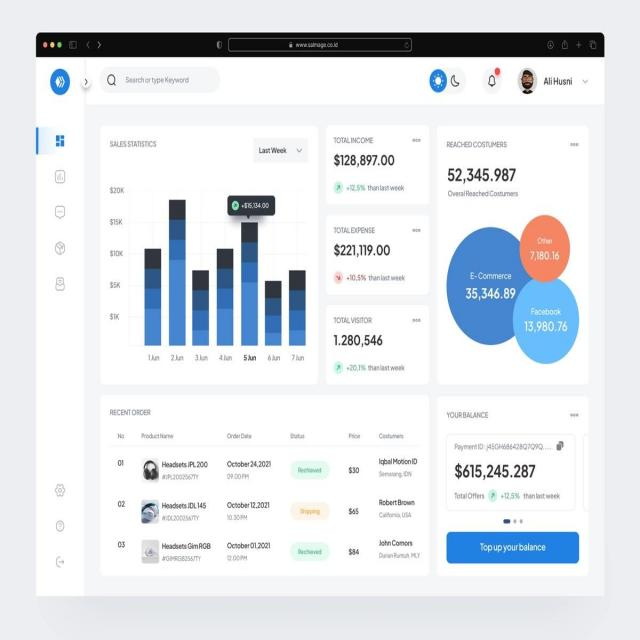button: (446, 532, 579, 564)
input: (100, 65, 220, 93)
select: (254, 136, 308, 162)
